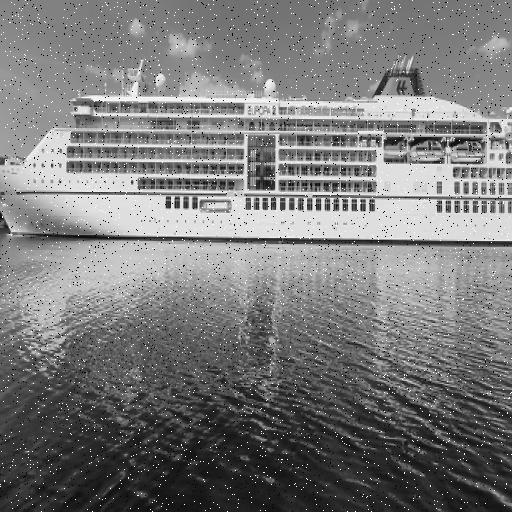cruises: (1, 49, 512, 256)
